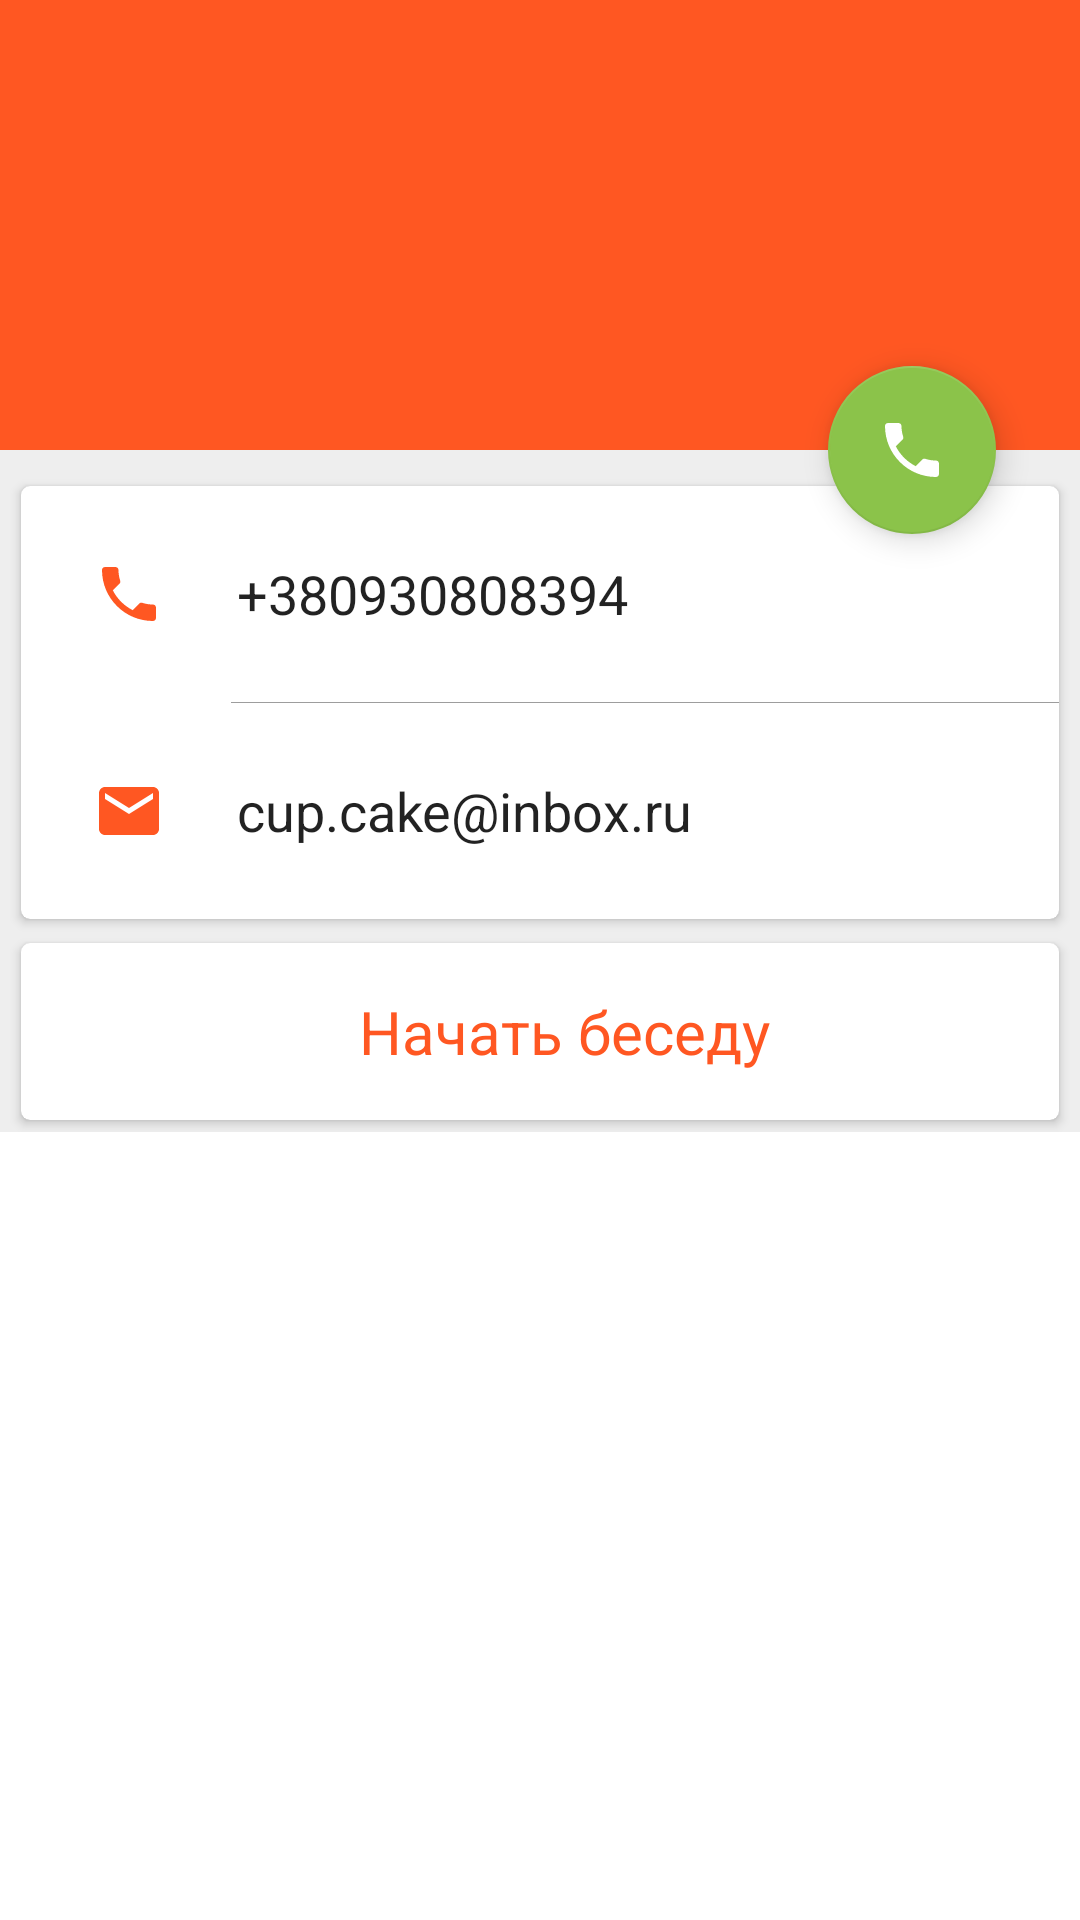

Named icons in this screenshot (1080px×1920px) and their bounding boxes, (x1, y1, x2, y2):
email: (99, 787, 159, 835)
